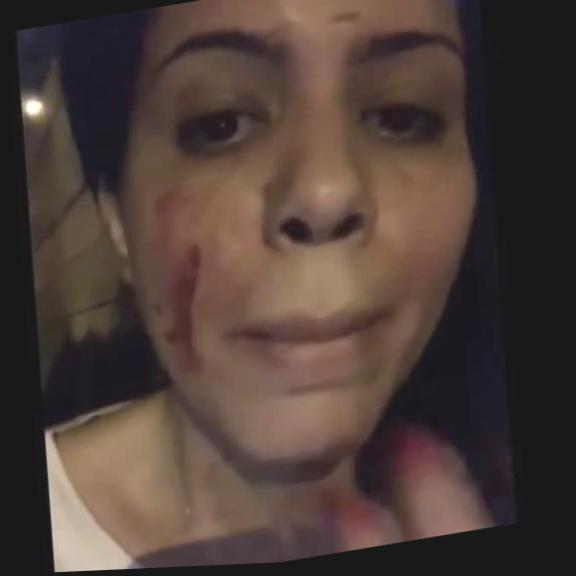Fire: (125, 182, 230, 384)
